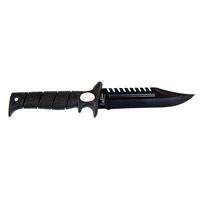knife: (6, 79, 199, 126)
